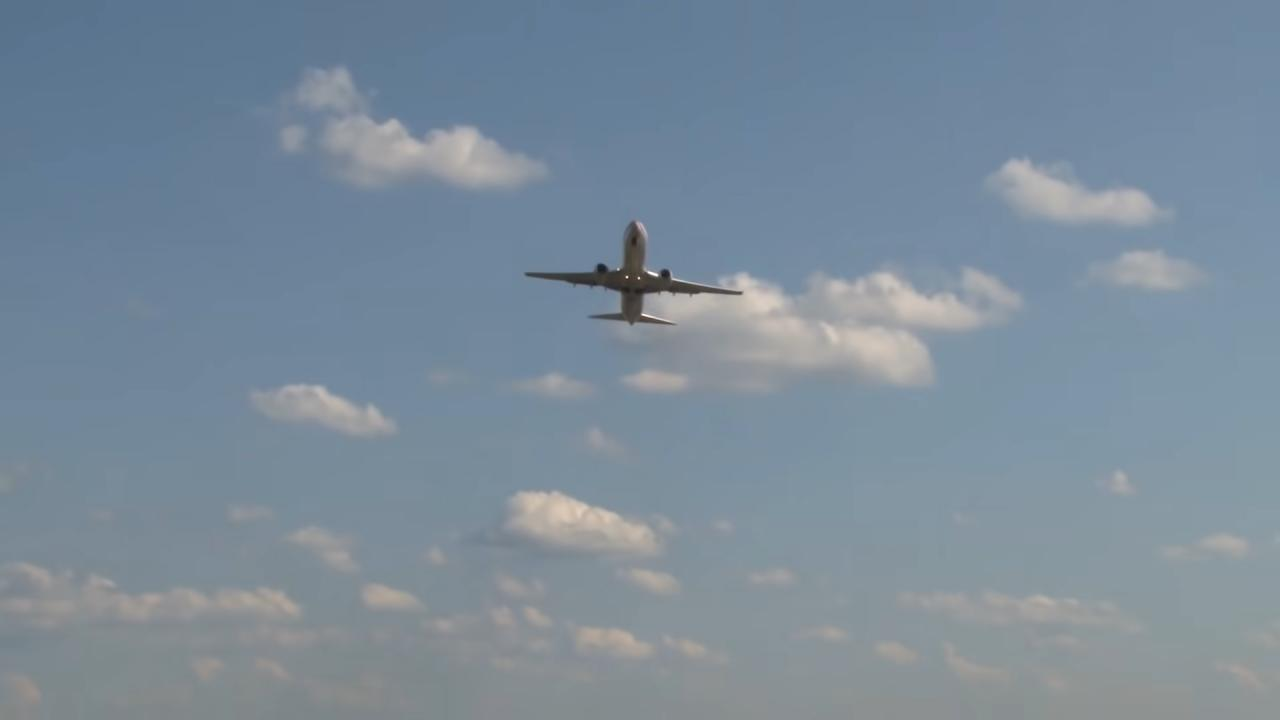Airplane: (514, 207, 753, 336)
